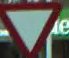Give way: (2, 1, 62, 57)
